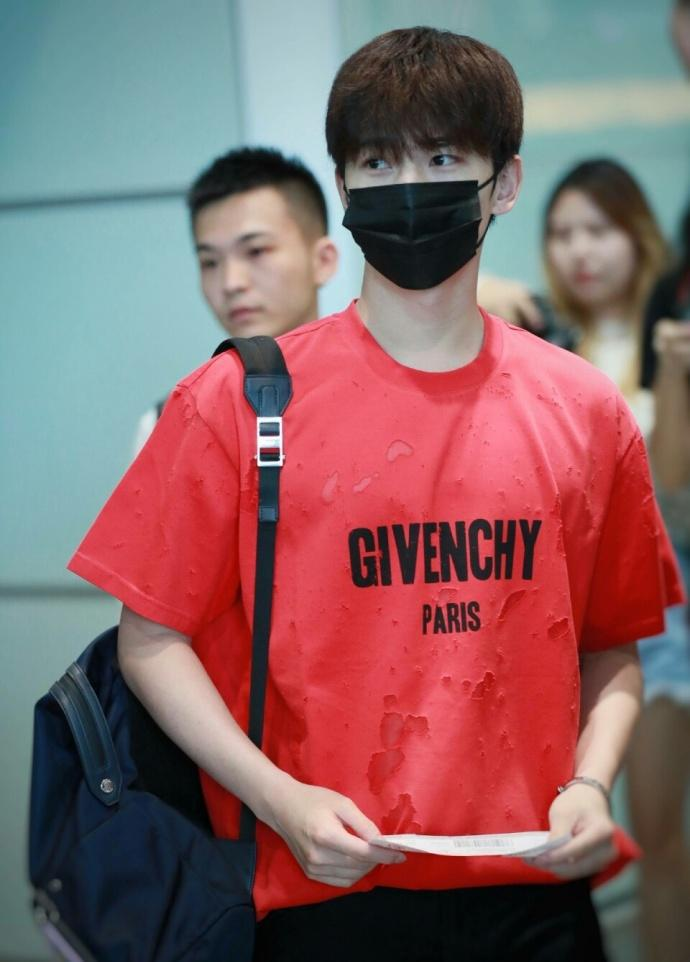NONE: (197, 219, 319, 341), (551, 211, 639, 299)
OK: (336, 126, 498, 288)
